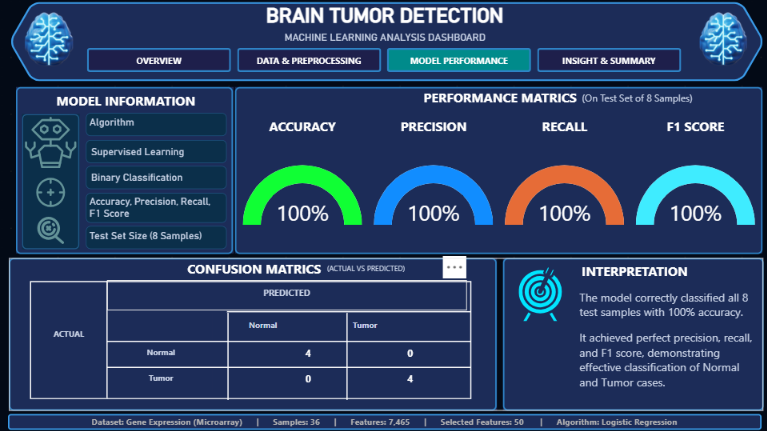

Layout of this report page (visuals, bound fields, positions):
{"tool":"powerbi","page":{"name":"MODEL PERFORMANCE","canvas":[1280,720],"ordinal":2},"visuals":[{"type":"textbox","title":"HEADING","box":[11,7.3,1259.5,38],"z":0,"group":"g9"},{"type":"shape","title":"MODEL INFORMATION","box":[27.1,145.7,361.4,278],"z":0,"group":"g3"},{"type":"group","id":"g1","title":"PERFORMANCE","box":[392.2,146,878.9,278],"z":0,"group":"g8"},{"type":"shape","title":"PERFORMANCE MATRICS","box":[392.2,146,878.9,278],"z":0,"group":"g1"},{"type":"textbox","title":"Testbox 1","box":[144,189.7,234,38],"z":0,"group":"g6"},{"type":"shape","box":[37,190.3,95.7,225.7],"z":0,"group":"g4"},{"type":"group","id":"g2","title":"INTERPRETATION","box":[837.2,430,434.3,254.3],"z":0,"group":"g7"},{"type":"textbox","title":"INTERPRETATION","box":[837.2,430,434.3,254.3],"z":0,"group":"g2"},{"type":"pivotTable","title":"MATRICS","fields":{"Rows":["Confusion_Matrix.Actual"],"Columns":["Confusion_Matrix.Predicted"],"Values":["Sum(Confusion_Matrix.Count)"]},"box":[177.5,516.2,607.5,150.3],"z":0,"group":"g5"},{"type":"textbox","title":"FOOTER","box":[13.9,690,1256,26],"z":0},{"type":"textbox","title":"SUBTITLE","box":[11,47.3,1260,30],"z":1000,"group":"g9"},{"type":"group","id":"g3","title":"MODEL PERFORMANCE","box":[27.1,145.7,361.4,278],"z":1000,"group":"g8"},{"type":"group","id":"g4","title":"Images","box":[37,190.3,95.7,225.7],"z":1000,"group":"g3"},{"type":"image","box":[42.7,190.3,85.7,95.7],"z":1000,"group":"g4"},{"type":"gauge","title":"F1 SCORE","fields":{"Y":["Sum(ModelMetrics.Value)"]},"box":[1054.9,191.4,208.6,225.7],"z":1000,"group":"g1"},{"type":"textbox","title":"Testbox 2","box":[144,233.9,234,38],"z":1000,"group":"g6"},{"type":"group","id":"g5","title":"CONFUSION MATRICS","box":[14.3,430,812.5,254.6],"z":1000,"group":"g7"},{"type":"shape","title":"CONFUSION MATRICS","box":[14.3,430,812.5,254.6],"z":1000,"group":"g5"},{"type":"image","box":[850.1,445.7,115.7,90],"z":1000,"group":"g2"},{"type":"shape","title":"BORDER","box":[14.5,3.8,1259.5,132],"z":2000,"group":"g9"},{"type":"group","id":"g6","title":"Textboxes","box":[144,189.7,234,226.3],"z":2000,"group":"g3"},{"type":"gauge","title":"PRECISION","fields":{"Y":["Sum(ModelMetrics.Value)"]},"box":[618.3,191.4,208.6,225.7],"z":2000,"group":"g1"},{"type":"textbox","title":"Textbox 3","box":[144,278.2,234,38],"z":2000,"group":"g6"},{"type":"image","box":[42.7,294.2,85.7,54.3],"z":2000,"group":"g4"},{"type":"group","id":"g7","title":"BODY 2","box":[14.3,430,1257.1,254.6],"z":2000},{"type":"shape","title":"BORDER SHAPE ","box":[49.4,467.9,735.7,197.1],"z":2000,"group":"g5"},{"type":"group","id":"g8","title":"BODY 1","box":[27.1,145.7,1244,278.3],"z":2500},{"type":"group","id":"g9","title":"HEADER","box":[11,3.8,1263,132],"z":3000},{"type":"image","title":"LEFT BRAIN","box":[20,12.3,122.8,105.5],"z":3000,"group":"g9"},{"type":"gauge","title":"RECALL","fields":{"Y":["Sum(ModelMetrics.Value)"]},"box":[836.6,191.4,208.6,225.7],"z":3000,"group":"g1"},{"type":"textbox","title":"Testbox 4","box":[144,322.4,234,49.4],"z":3000,"group":"g6"},{"type":"image","box":[42.7,356.7,85.7,54.3],"z":3000,"group":"g4"},{"type":"shape","title":"2ND FULL TOP LINE","box":[177.5,579.4,607,64.6],"z":3000,"group":"g5"},{"type":"pageNavigator","box":[145,80,992,40],"z":4000,"group":"g9"},{"type":"gauge","title":"ACCURACY","fields":{"Y":["Sum(ModelMetrics.Value)"]},"box":[399.9,191.4,208.6,225.7],"z":4000,"group":"g1"},{"type":"textbox","title":"Testbox 5","box":[144,378,234,38],"z":4000,"group":"g6"},{"type":"textbox","title":"SUBTITLE","box":[540,433,266.6,30.9],"z":4000,"group":"g5"},{"type":"image","title":"RIGHT BRAIN","box":[1140,12.3,131,104.5],"z":5000,"group":"g9"},{"type":"textbox","title":"SUBTITLE","box":[964.9,147.6,300,34.3],"z":5000,"group":"g1"},{"type":"shape","title":"FULL TOP LINE","box":[177.5,535.8,607,64.6],"z":5000,"group":"g5"},{"type":"shape","title":"3RD LEFT LINE","box":[528,521.7,100.2,145],"z":6000,"group":"g5"},{"type":"shape","title":"2ND LEFT LINE","box":[329.3,521.7,100.2,145],"z":7000,"group":"g5"},{"type":"shape","title":"LEFT LINE","box":[127.4,468.7,100.2,195],"z":8000,"group":"g5"},{"type":"shape","title":"TOP LINE","box":[378,492.2,407,55.7],"z":9000,"group":"g5"},{"type":"textbox","title":"ACTUAL","box":[51.5,535.8,126,56.2],"z":10000,"group":"g5"},{"type":"textbox","title":"PREDICTED ","box":[177.5,467,599.4,52],"z":11000,"group":"g5"}]}

Visuals, with their boxes in screenshot pixels (x1, y1, x2, y2), scaled from the page's 1280x720 canvas onto the 767x431 screenshot:
"HEADING" textbox: crop(7, 4, 761, 27)
"MODEL INFORMATION" shape: crop(16, 87, 233, 254)
"PERFORMANCE" group: crop(235, 87, 762, 254)
"PERFORMANCE MATRICS" shape: crop(235, 87, 762, 254)
"Testbox 1" textbox: crop(86, 114, 227, 136)
shape: crop(22, 114, 80, 249)
"INTERPRETATION" group: crop(502, 257, 762, 410)
"INTERPRETATION" textbox: crop(502, 257, 762, 410)
"MATRICS" pivotTable: crop(106, 309, 470, 399)
"FOOTER" textbox: crop(8, 413, 761, 429)
"SUBTITLE" textbox: crop(7, 28, 762, 46)
"MODEL PERFORMANCE" group: crop(16, 87, 233, 254)
"Images" group: crop(22, 114, 80, 249)
image: crop(26, 114, 77, 171)
"F1 SCORE" gauge: crop(632, 115, 757, 250)
"Testbox 2" textbox: crop(86, 140, 227, 163)
"CONFUSION MATRICS" group: crop(9, 257, 495, 410)
"CONFUSION MATRICS" shape: crop(9, 257, 495, 410)
image: crop(509, 267, 579, 321)
"BORDER" shape: crop(9, 2, 763, 81)
"Textboxes" group: crop(86, 114, 227, 249)
"PRECISION" gauge: crop(370, 115, 495, 250)
"Textbox 3" textbox: crop(86, 167, 227, 189)
image: crop(26, 176, 77, 209)
"BODY 2" group: crop(9, 257, 762, 410)
"BORDER SHAPE " shape: crop(30, 280, 470, 398)
"BODY 1" group: crop(16, 87, 762, 254)
"HEADER" group: crop(7, 2, 763, 81)
"LEFT BRAIN" image: crop(12, 7, 86, 71)
"RECALL" gauge: crop(501, 115, 626, 250)
"Testbox 4" textbox: crop(86, 193, 227, 223)
image: crop(26, 214, 77, 246)
"2ND FULL TOP LINE" shape: crop(106, 347, 470, 386)
pageNavigator: crop(87, 48, 681, 72)
"ACCURACY" gauge: crop(240, 115, 365, 250)
"Testbox 5" textbox: crop(86, 226, 227, 249)
"SUBTITLE" textbox: crop(324, 259, 483, 278)
"RIGHT BRAIN" image: crop(683, 7, 762, 70)
"SUBTITLE" textbox: crop(578, 88, 758, 109)
"FULL TOP LINE" shape: crop(106, 321, 470, 359)
"3RD LEFT LINE" shape: crop(316, 312, 376, 399)
"2ND LEFT LINE" shape: crop(197, 312, 257, 399)
"LEFT LINE" shape: crop(76, 281, 136, 397)
"TOP LINE" shape: crop(227, 295, 470, 328)
"ACTUAL" textbox: crop(31, 321, 106, 354)
"PREDICTED " textbox: crop(106, 280, 466, 311)
